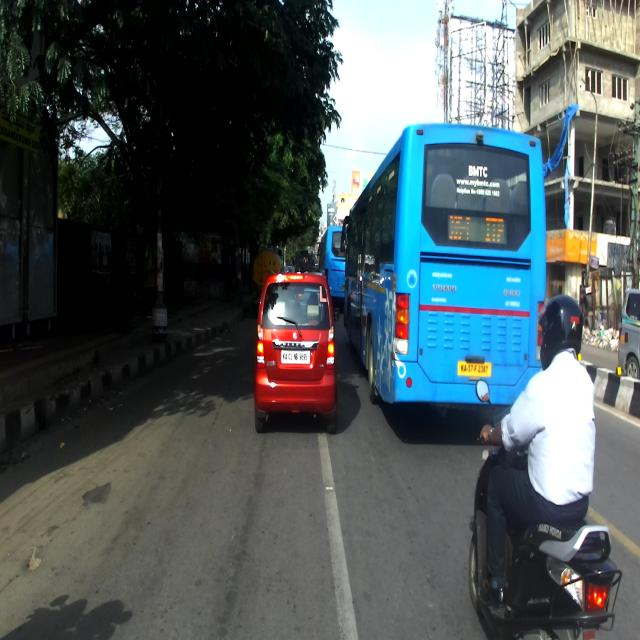bus ahead at: (342, 119, 540, 405)
car ahead at: (258, 277, 337, 430)
motorcycle ahead at: (518, 449, 621, 640)
